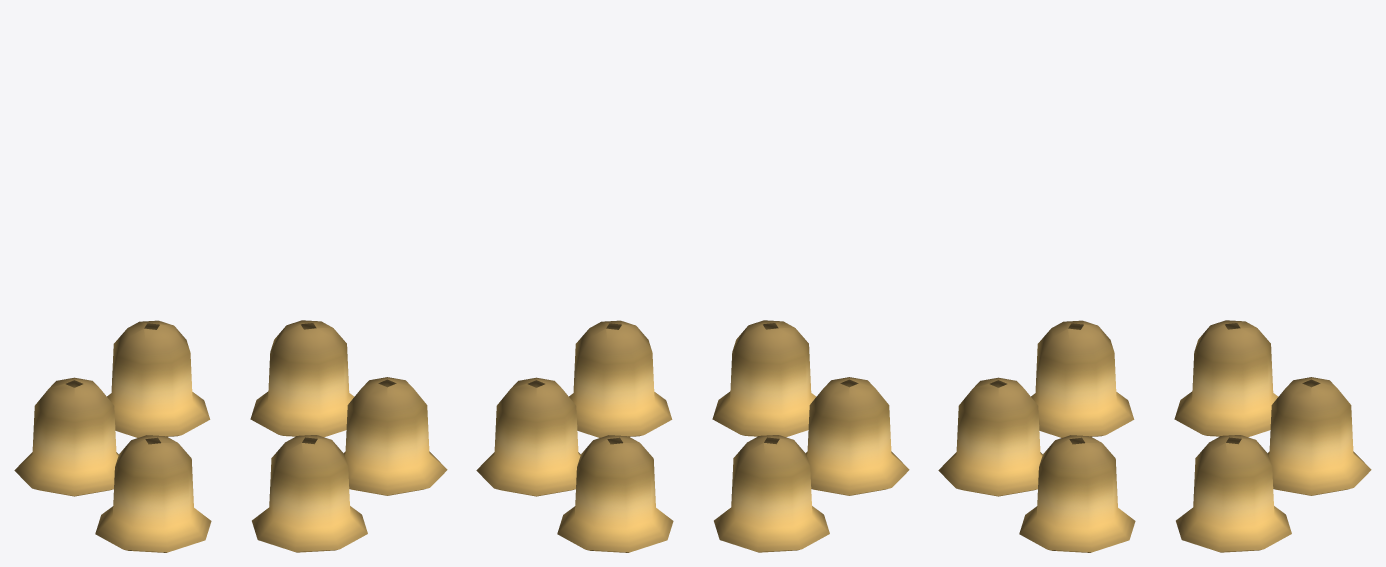
Rendered from Light_roof.fbx.
The picture shows the model from 3 angles, left to right: view 1: azimuth 30°, elevation 25°; view 2: azimuth 150°, elevation 25°; view 3: azimuth 270°, elevation 25°; orthographic projection.
Parts seen in each view (by area): view 1: Light_roof; view 2: Light_roof; view 3: Light_roof.
Part boxes in pixels (left/top/right/bottom): Light_roof: left=14, top=320, right=447, bottom=552; Light_roof: left=476, top=320, right=909, bottom=552; Light_roof: left=938, top=320, right=1371, bottom=552.
Size of the model in its own units: 0.7656 by 0.9736 by 0.8549.
